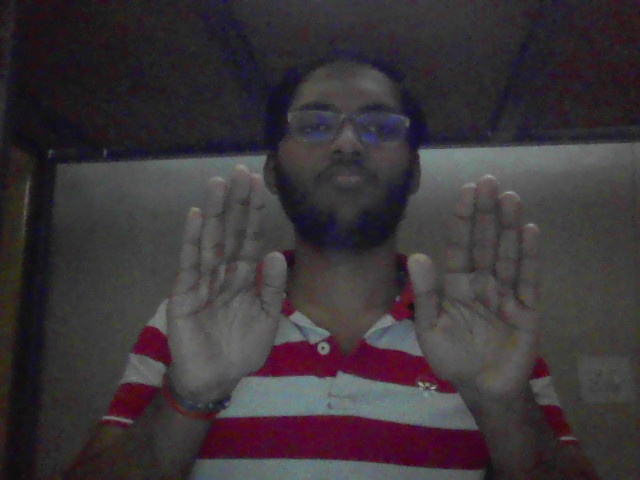God_Bless_You: (164, 159, 548, 427)
